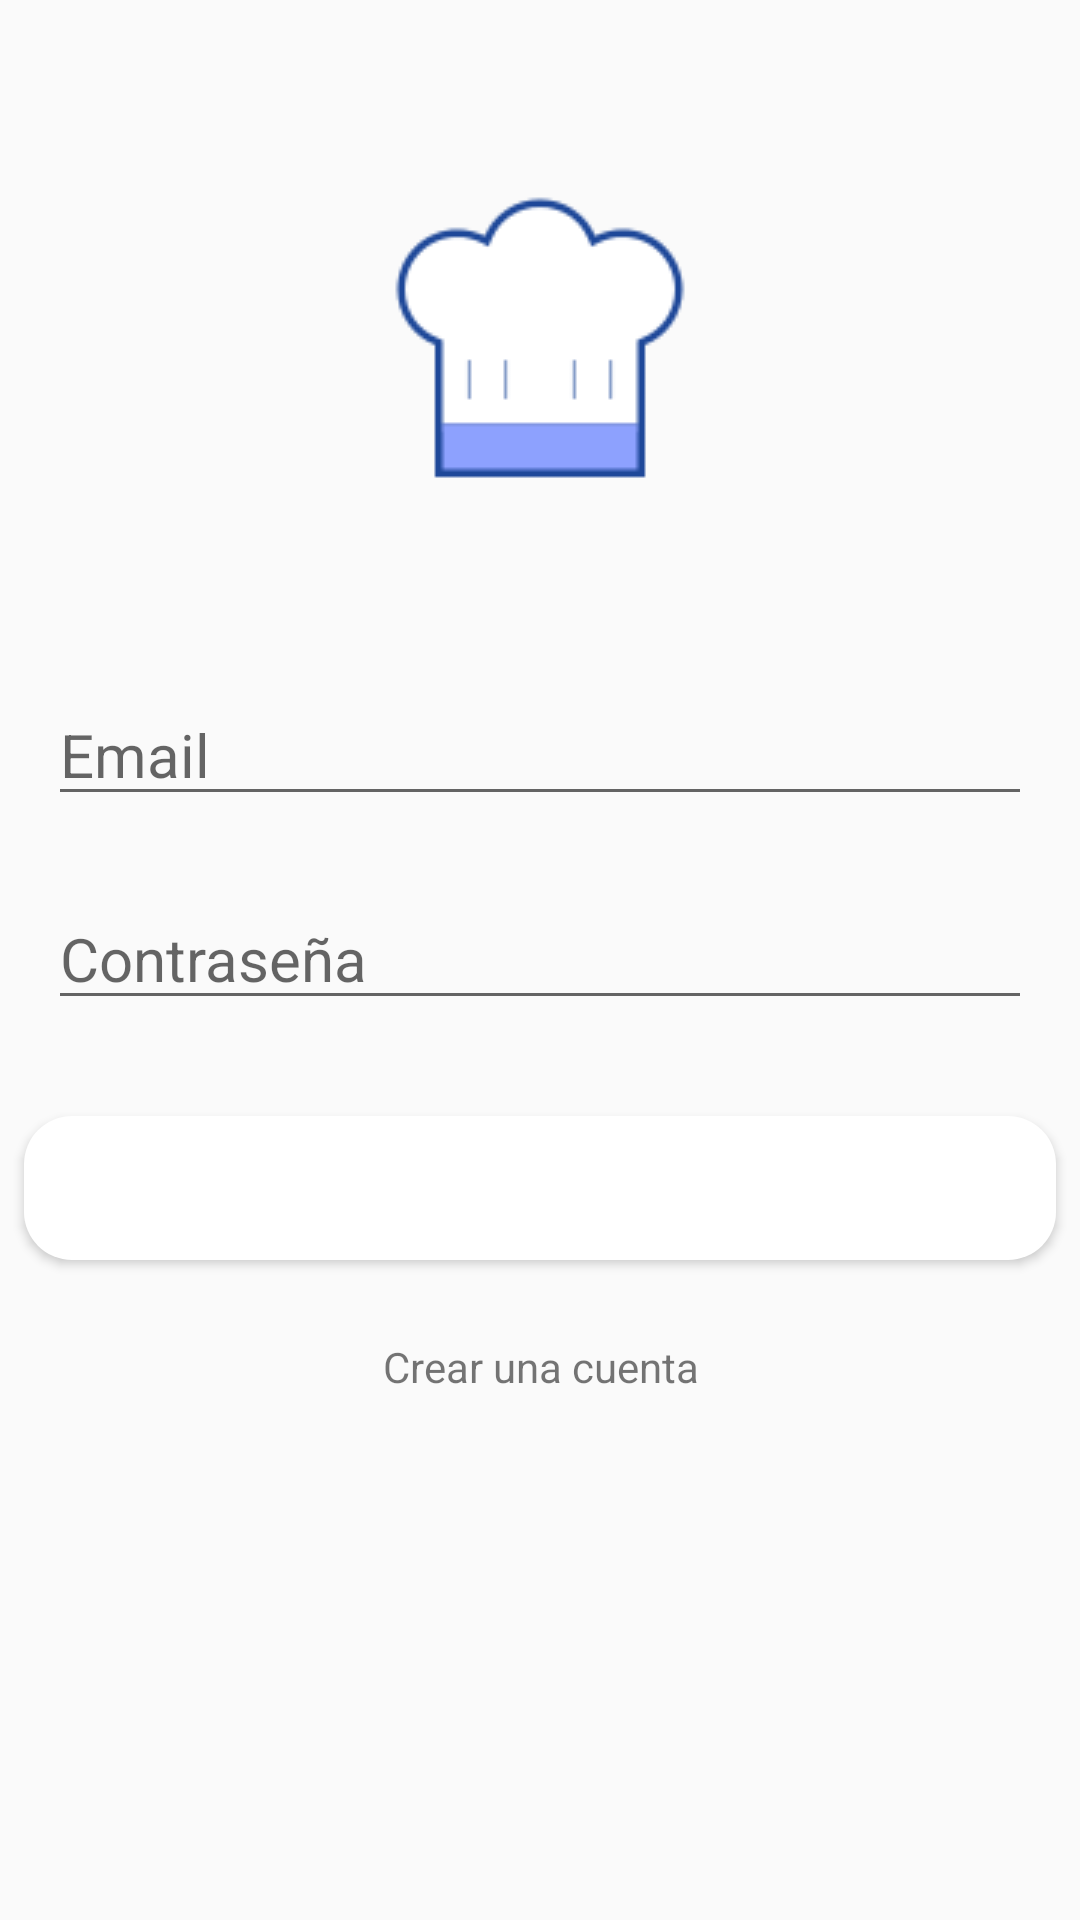

Where to tap for icons on this 1080w x 1920h app screen, as point (x, y):
recipe: point (540, 337)
